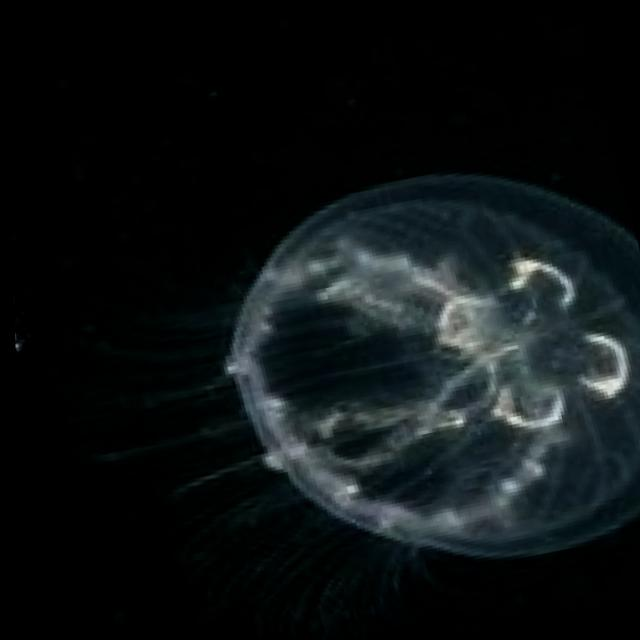Moon-jellyfish: (45, 87, 640, 640)
